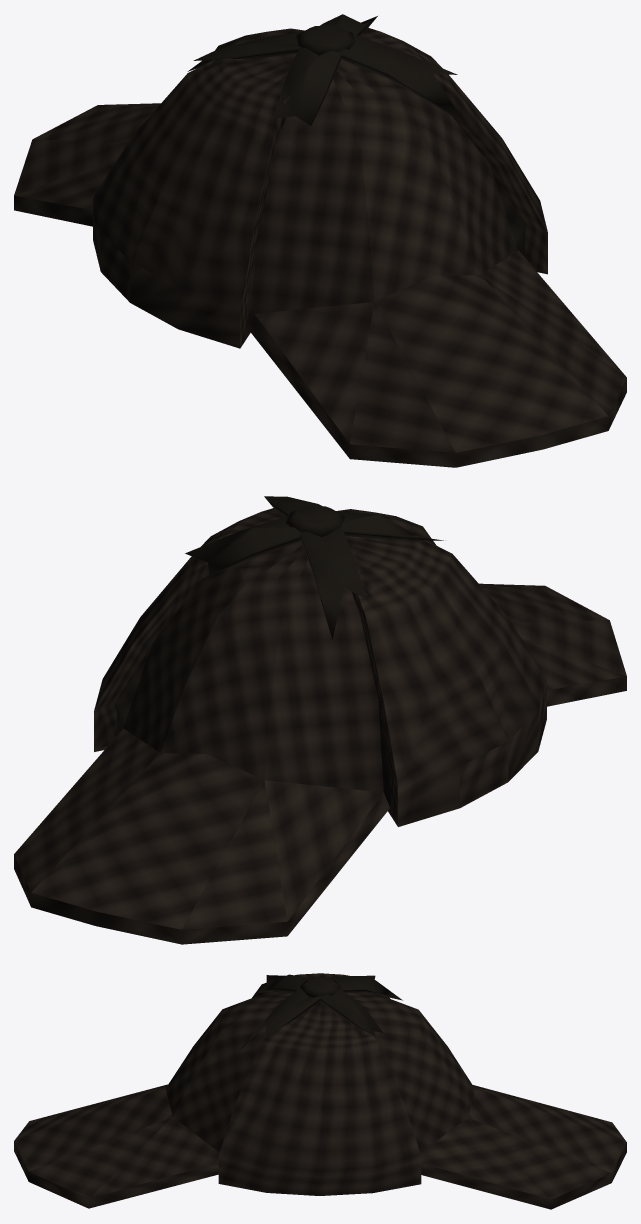
The model's file is hat_deerstalker.glb.
3 views of the same model, one above another, from view 1: azimuth 30°, elevation 25°; view 2: azimuth 150°, elevation 25°; view 3: azimuth 270°, elevation 25° (orthographic). The views are drawn at different scales.
Visible parts, largest first — view 1: Object_3; view 2: Object_3; view 3: Object_3.
Part boxes in pixels (x1,y1,x2,y2): Object_3: (14, 14, 626, 467); Object_3: (14, 496, 626, 944); Object_3: (14, 973, 626, 1209).
Bounding box in the file's own units: 7.81 × 5.24 × 16.
1 material, 1 textured.
